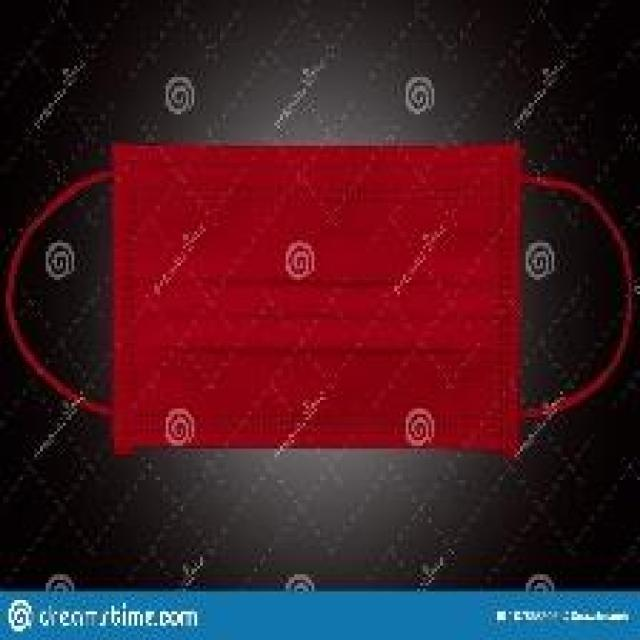Mask: (27, 116, 640, 470)
